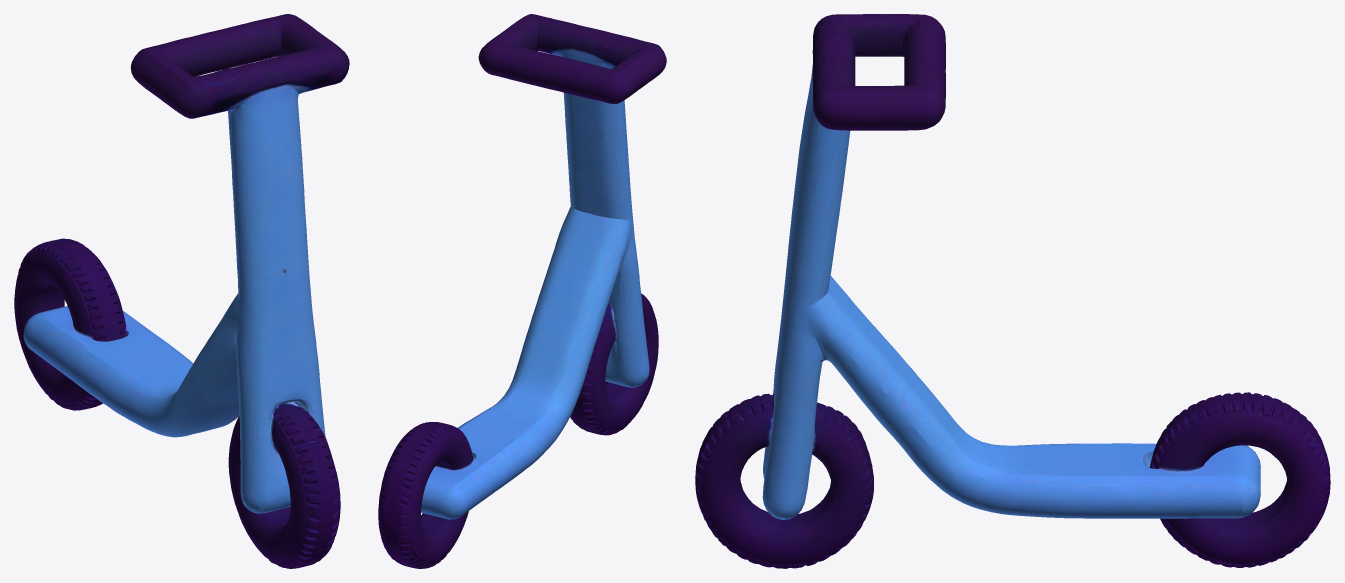
Rendered from kick-scooter.glb.
3 views of the same model, side by side, from view 1: azimuth 30°, elevation 25°; view 2: azimuth 150°, elevation 25°; view 3: azimuth 270°, elevation 25° (orthographic). The views are drawn at different scales.
Parts seen in each view (by area): view 1: Mesh; view 2: Mesh; view 3: Mesh.
Boxes of the visible parts, box(x1,y1,x2,y2) form: Mesh: box(14, 14, 349, 568); Mesh: box(378, 14, 666, 568); Mesh: box(695, 14, 1330, 568).
Size of the model in its own units: 0.3355 by 0.8896 by 1.
Materials: 1 (1 with a texture image).
